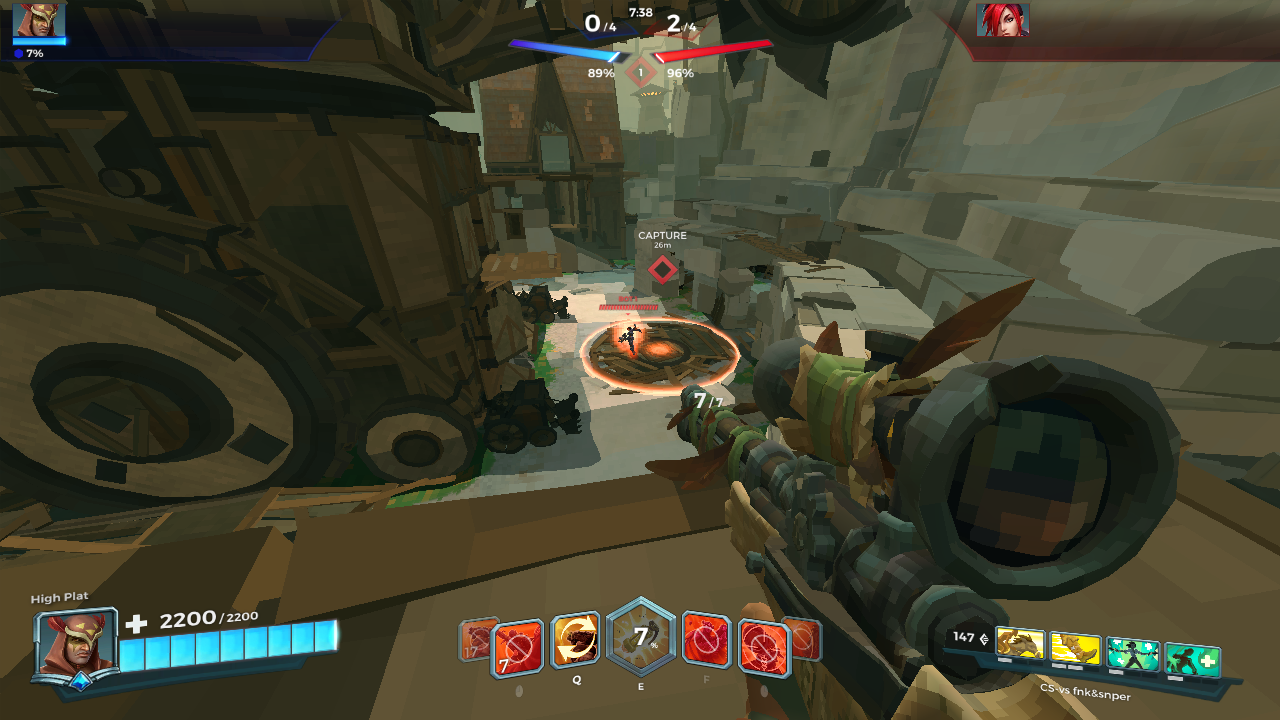model: (618, 321, 645, 358)
